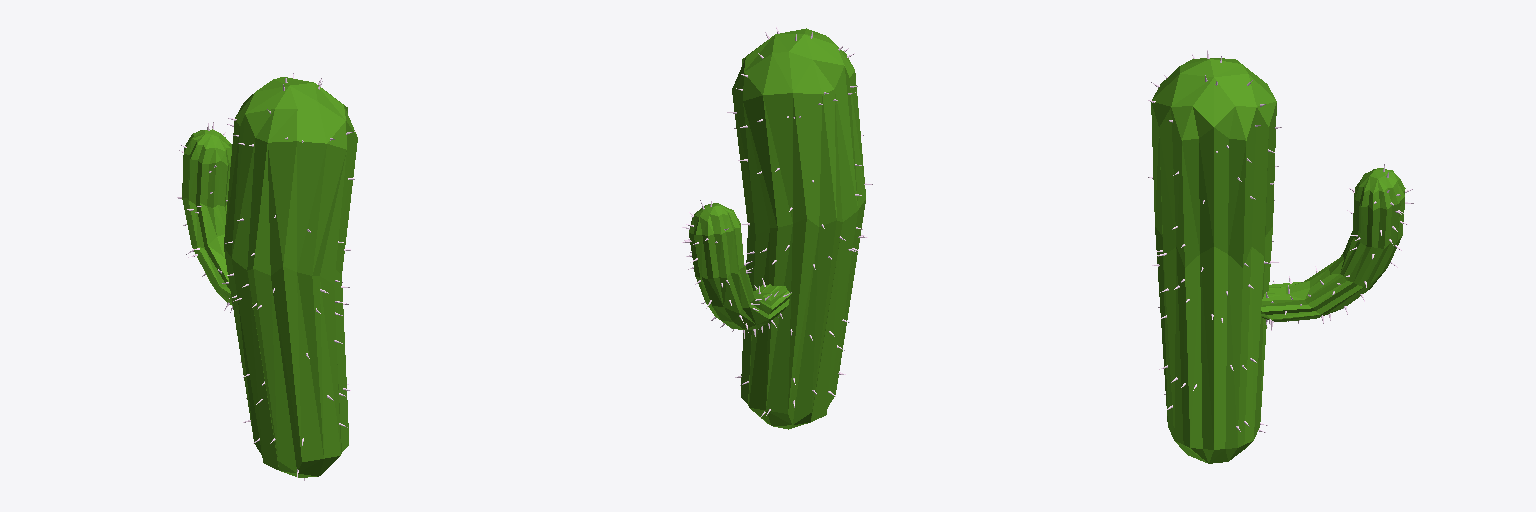
Rendered from Cactus02.obj.
3 renders of one model, left to right at view 1: azimuth 30°, elevation 25°; view 2: azimuth 150°, elevation 25°; view 3: azimuth 270°, elevation 25°, orthographic.
Visible parts, largest first — view 1: Circle, x_Circle.001, Cone; view 2: Circle, x_Circle.001, Cone; view 3: Circle, x_Circle.001, Cone.
Part boxes in pixels (x1,y1,x2,y2): Circle: (224, 77, 357, 477); x_Circle.001: (182, 129, 232, 305); Cone: (177, 73, 354, 480); Circle: (732, 28, 865, 429); x_Circle.001: (689, 203, 791, 329); Cone: (682, 27, 872, 417); Circle: (1151, 58, 1276, 463); x_Circle.001: (1261, 168, 1405, 321); Cone: (1148, 50, 1413, 432).
Bounding box in the file's own units: 3.16 × 9.6 × 5.76.